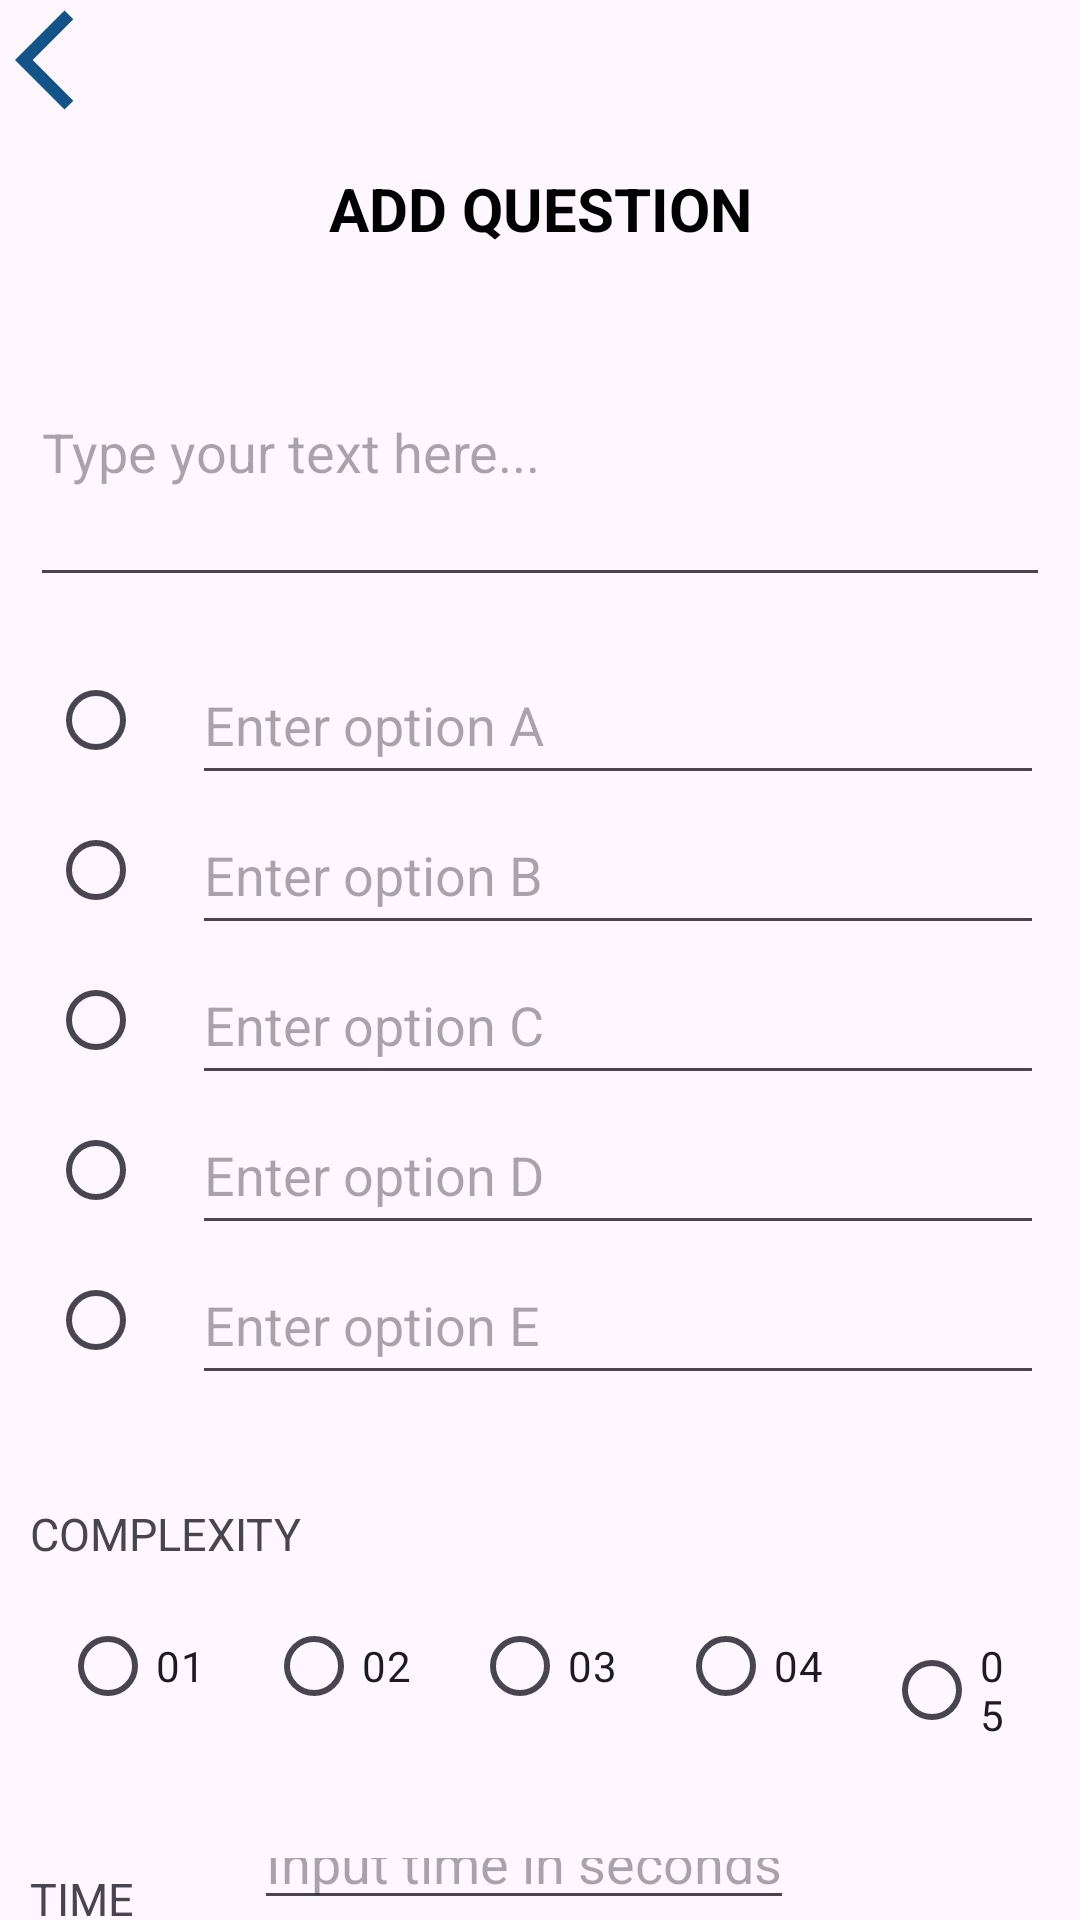

Named icons in this screenshot (1080w x 1920h) and their bounding boxes, (left=x1, top=y1, right=x2, bottom=y2):
arrow back: (left=15, top=10, right=74, bottom=110)
